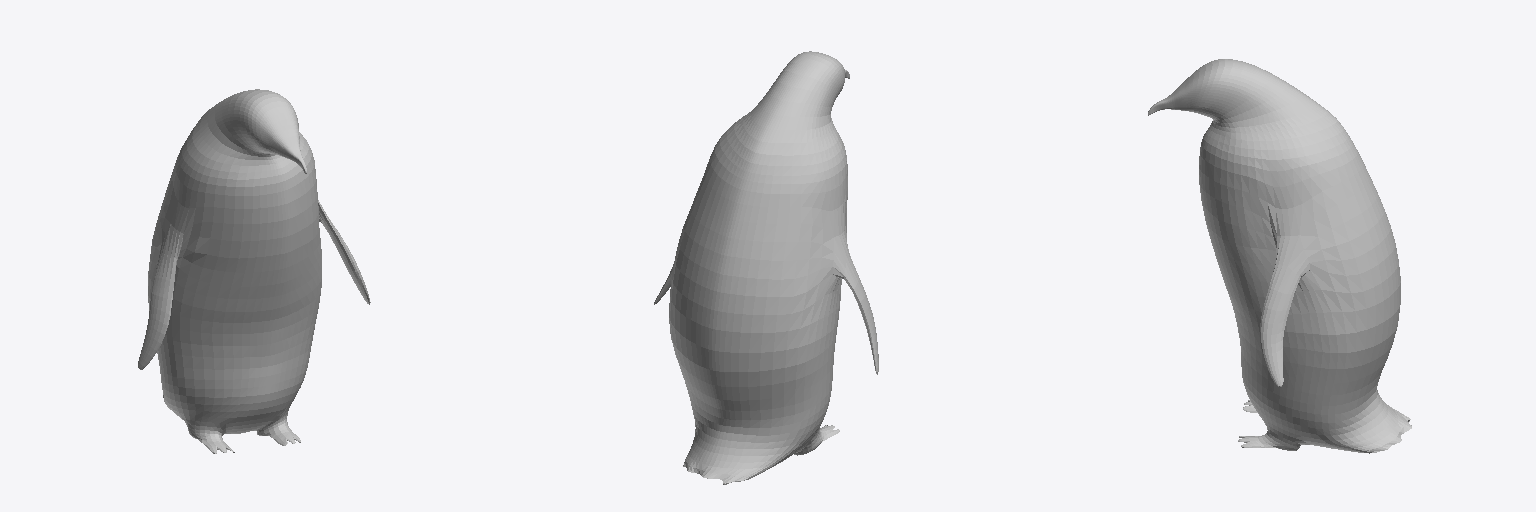
File: RiggedPenguin_000015.obj
The picture shows the model from 3 angles: view 1: azimuth 30°, elevation 25°; view 2: azimuth 150°, elevation 25°; view 3: azimuth 270°, elevation 25°; orthographic projection.
Visible parts, largest first — view 1: Penguin_Cylinder; view 2: Penguin_Cylinder; view 3: Penguin_Cylinder.
Boxes of the visible parts, x1=… form: Penguin_Cylinder: x1=138, y1=89, x2=370, y2=453; Penguin_Cylinder: x1=654, y1=51, x2=878, y2=484; Penguin_Cylinder: x1=1148, y1=59, x2=1411, y2=453.
Size of the model in its own units: 0.7783 by 1.21 by 0.785.